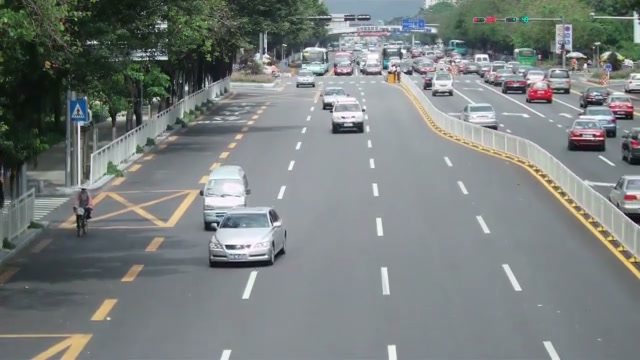bus: (302, 47, 329, 76)
car: (208, 206, 287, 267), (202, 166, 251, 231), (608, 174, 640, 217), (567, 118, 607, 152), (330, 97, 365, 134), (583, 106, 618, 138), (462, 102, 498, 127), (606, 94, 634, 119), (321, 86, 348, 111), (544, 69, 571, 93), (526, 81, 553, 103), (621, 134, 640, 164), (580, 88, 610, 107), (432, 71, 453, 95), (502, 78, 528, 94), (296, 71, 316, 88), (624, 73, 640, 93)
pedestrian: (73, 186, 93, 231)
truck: (354, 39, 383, 75), (333, 55, 354, 76)
